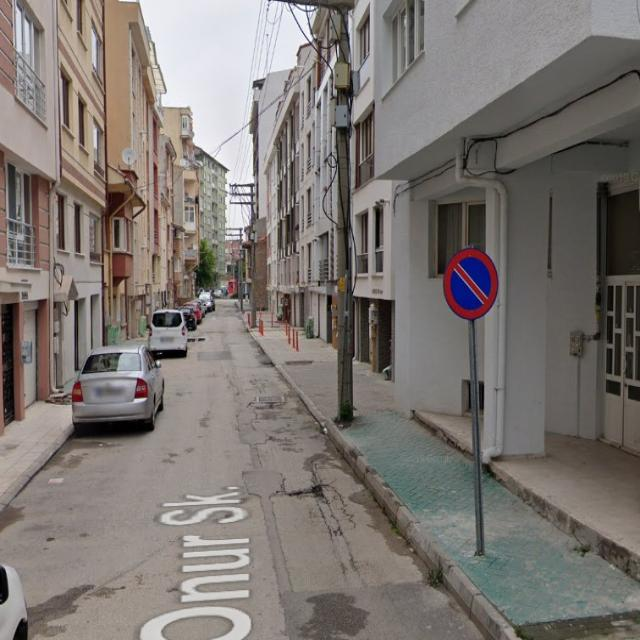parkyasak: (443, 250, 498, 320)
